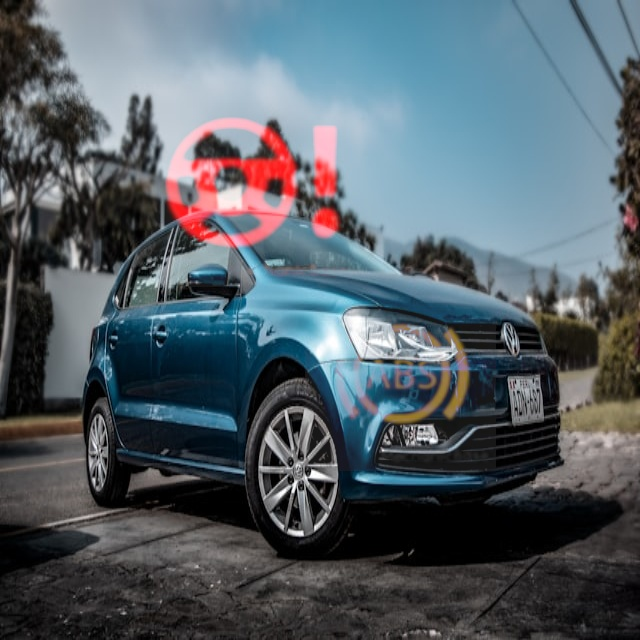symbol: (149, 80, 356, 287), (305, 280, 496, 471)
